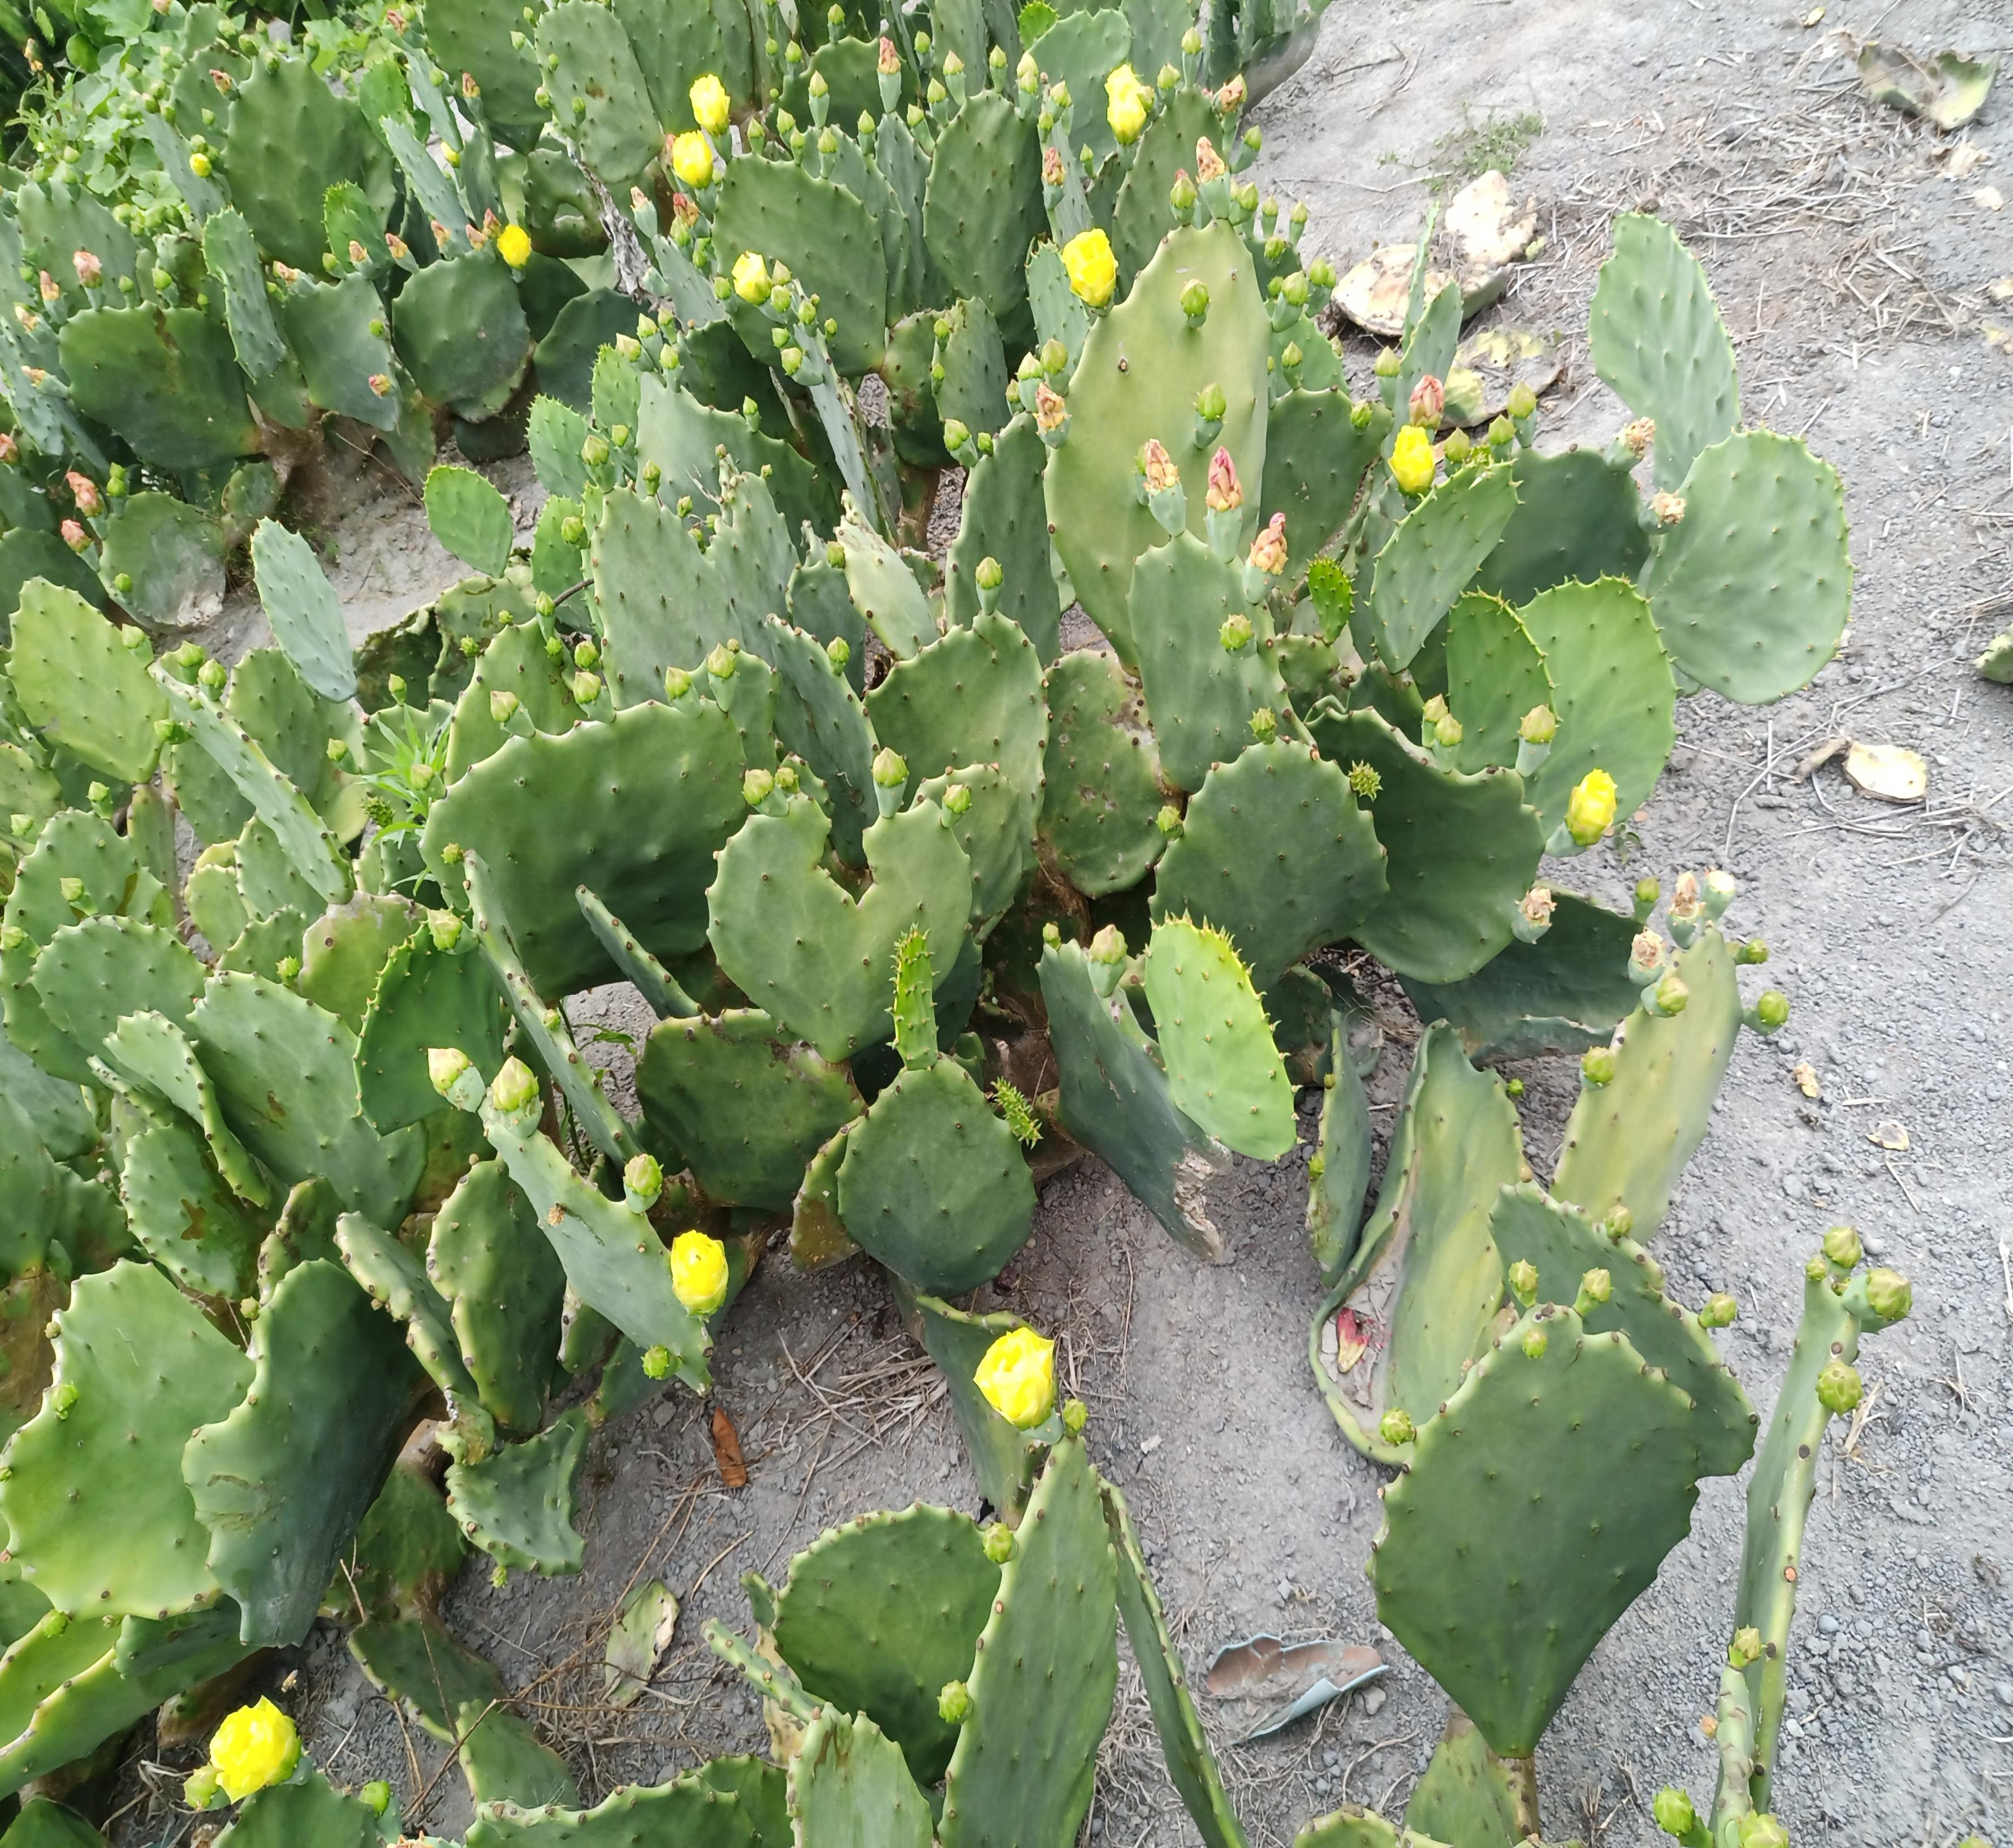impropria: (1407, 1309, 1700, 1769), (165, 1295, 399, 1655), (1163, 726, 1401, 980), (999, 1471, 1155, 1848), (706, 149, 922, 407), (1671, 451, 1867, 712), (1134, 548, 1286, 764), (399, 249, 548, 431), (385, 936, 520, 1124), (278, 276, 399, 441)
propria: (1013, 205, 1290, 683), (50, 946, 444, 1275), (393, 714, 755, 983), (6, 1261, 248, 1648), (712, 794, 989, 1059), (763, 1515, 991, 1750), (1485, 568, 1671, 855), (835, 1061, 1033, 1305), (1141, 926, 1314, 1160), (1611, 215, 1752, 475)
